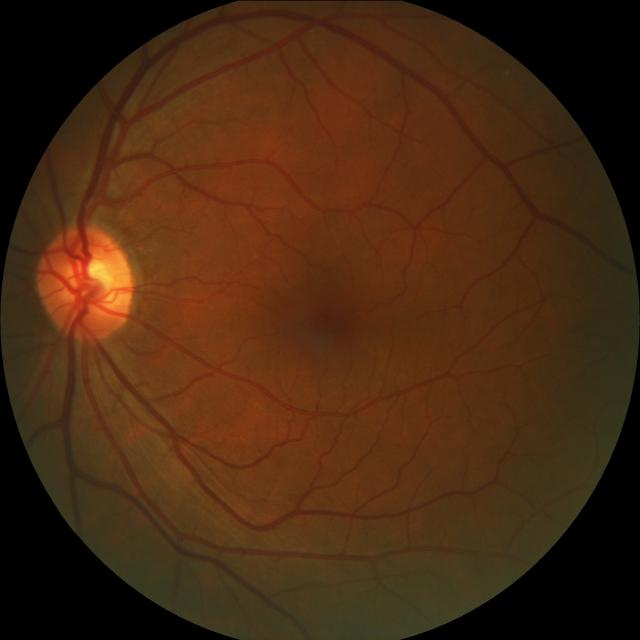OC: (60, 253, 117, 310)
OD: (40, 223, 136, 339)
